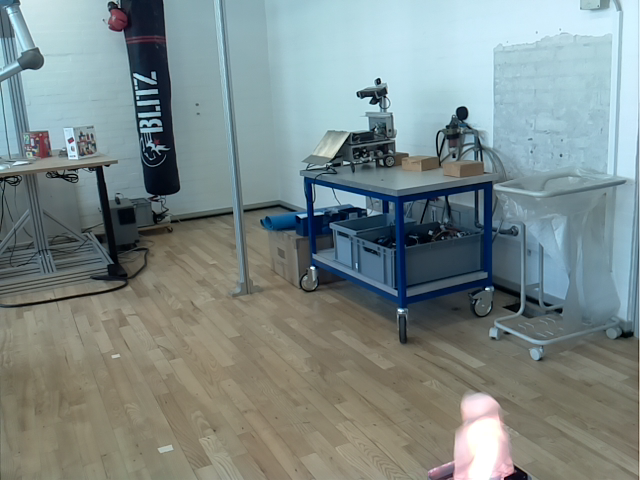fire: (451, 391, 516, 479)
